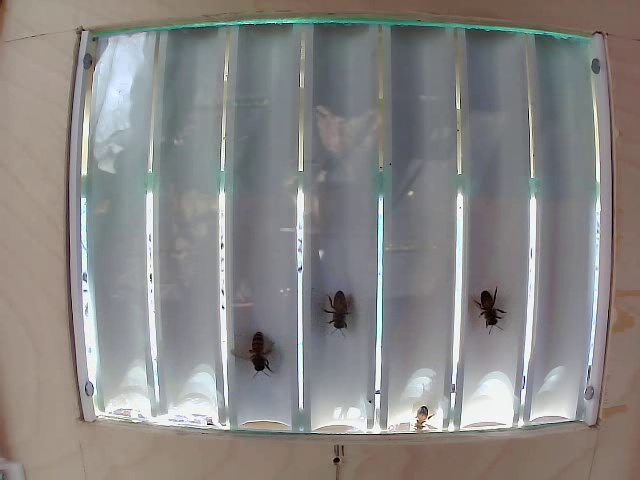bee: (239, 326, 280, 364), (475, 292, 508, 337), (333, 277, 353, 328)
